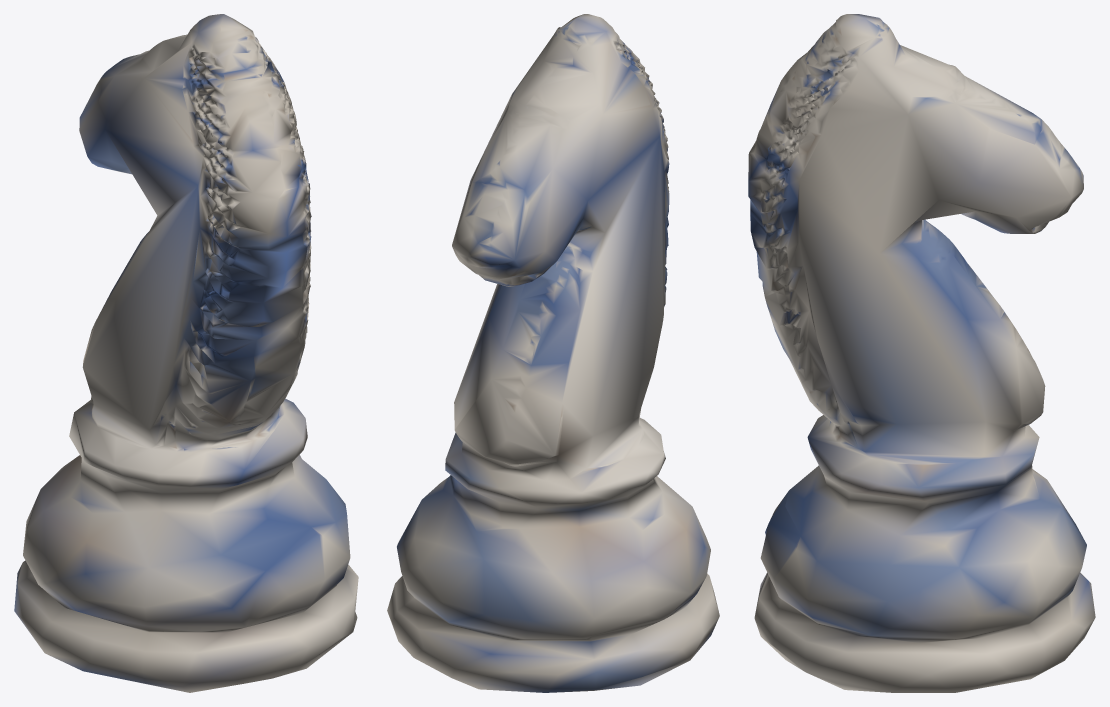
File: knight-white.glb
3 views of the same model, side by side, from view 1: azimuth 30°, elevation 25°; view 2: azimuth 150°, elevation 25°; view 3: azimuth 270°, elevation 25° (orthographic). The views are drawn at different scales.
Visible parts, largest first — view 1: Cobalt Vein white knight; view 2: Cobalt Vein white knight; view 3: Cobalt Vein white knight.
Boxes of the visible parts, x1,y1,x2,y2 form: Cobalt Vein white knight: (14,14,358,692); Cobalt Vein white knight: (387,14,719,692); Cobalt Vein white knight: (748,14,1095,692).
Size of the model in its own units: 0.5945 by 1.18 by 0.5965.
